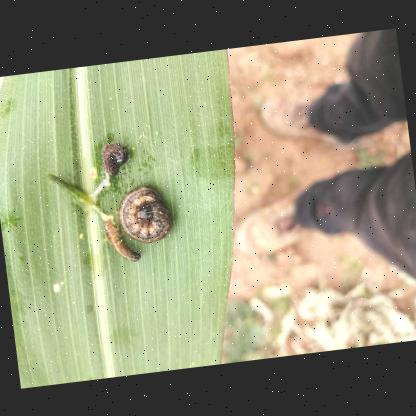Fall Armyworm Larvae: (112, 180, 176, 248), (101, 212, 144, 266), (96, 136, 134, 181)
